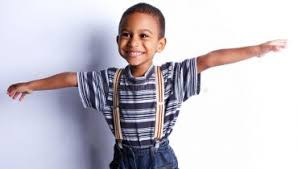person: (115, 2, 167, 67)
